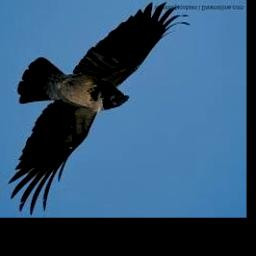Crow: (8, 1, 189, 216)
